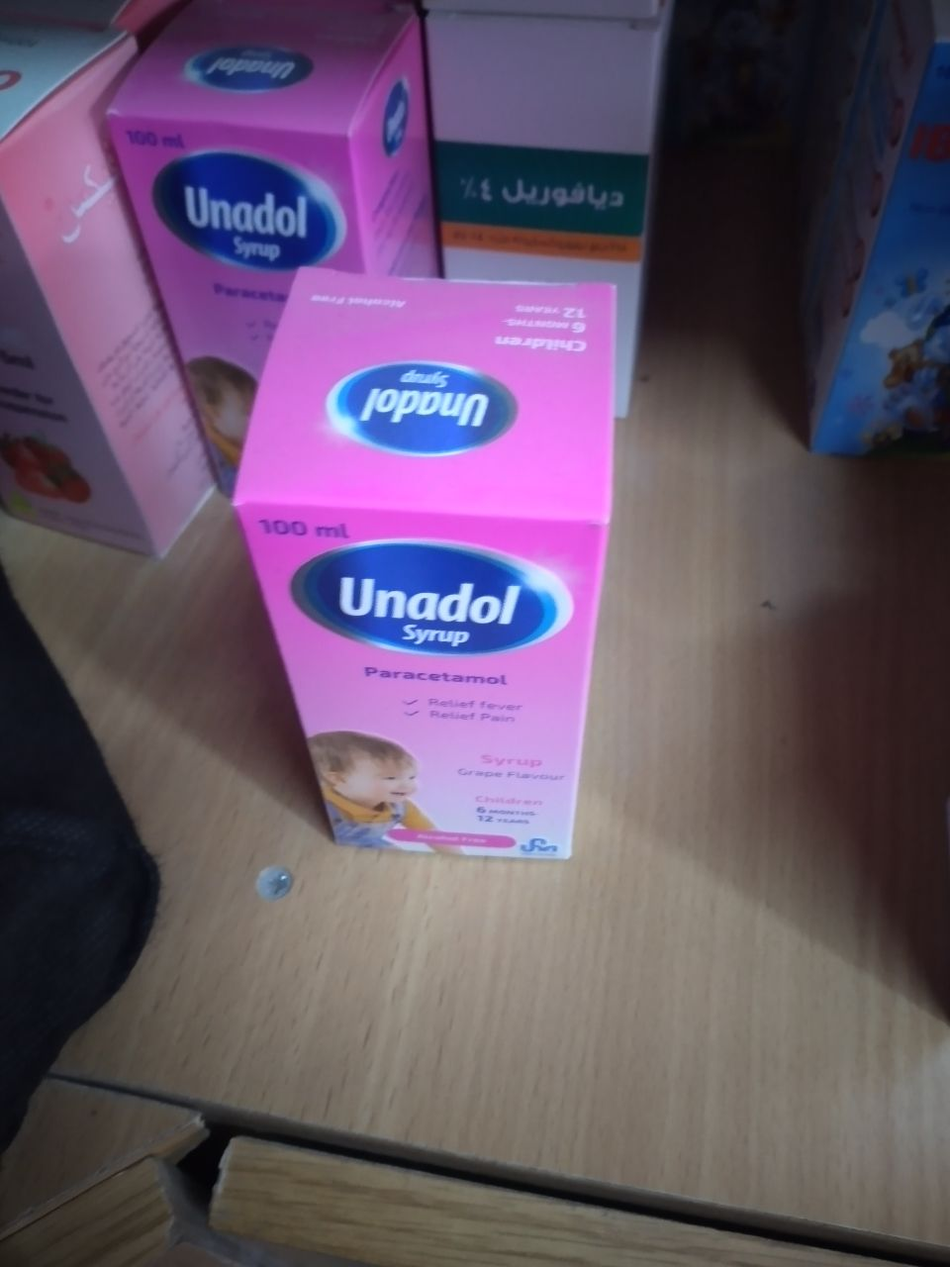Medicine: (231, 254, 623, 881), (0, 36, 211, 558), (106, 10, 439, 297), (765, 3, 943, 465), (412, 3, 653, 287)
